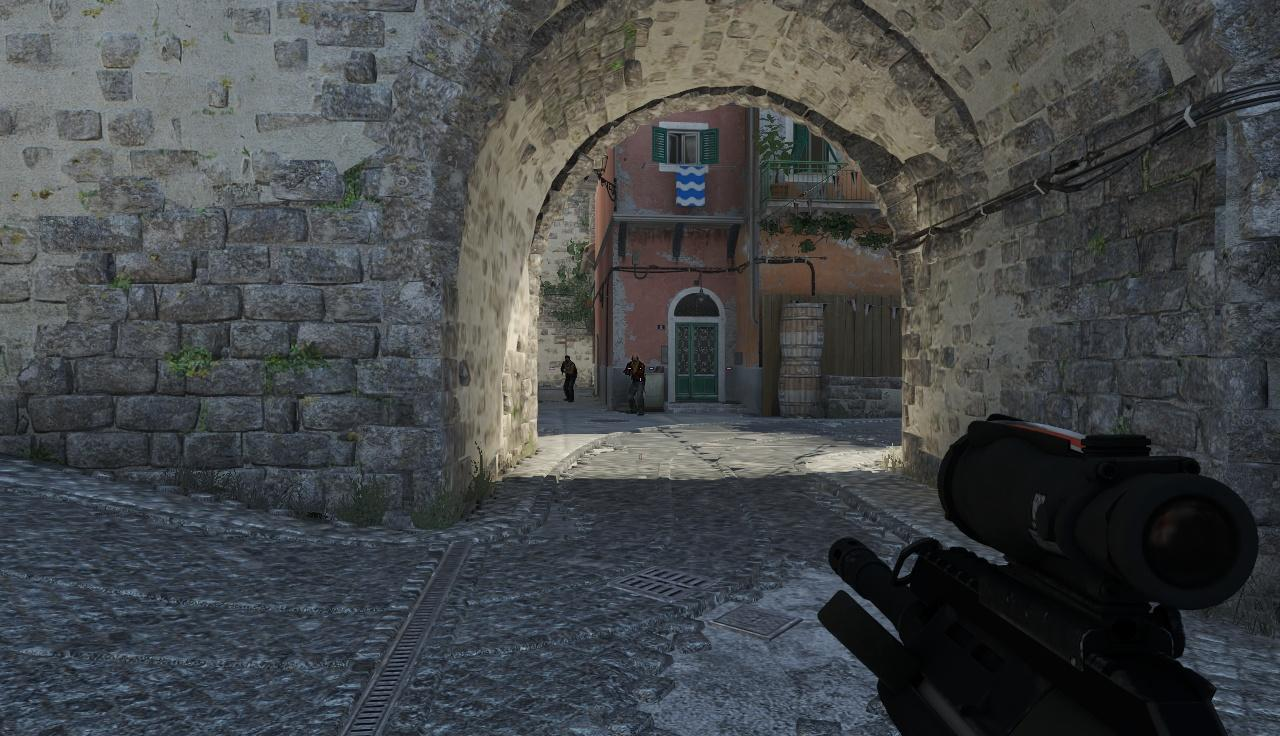rifle: (830, 409, 1269, 732)
tt: (627, 356, 646, 413), (562, 355, 578, 401)
tthead: (632, 354, 640, 363), (564, 355, 571, 364)
